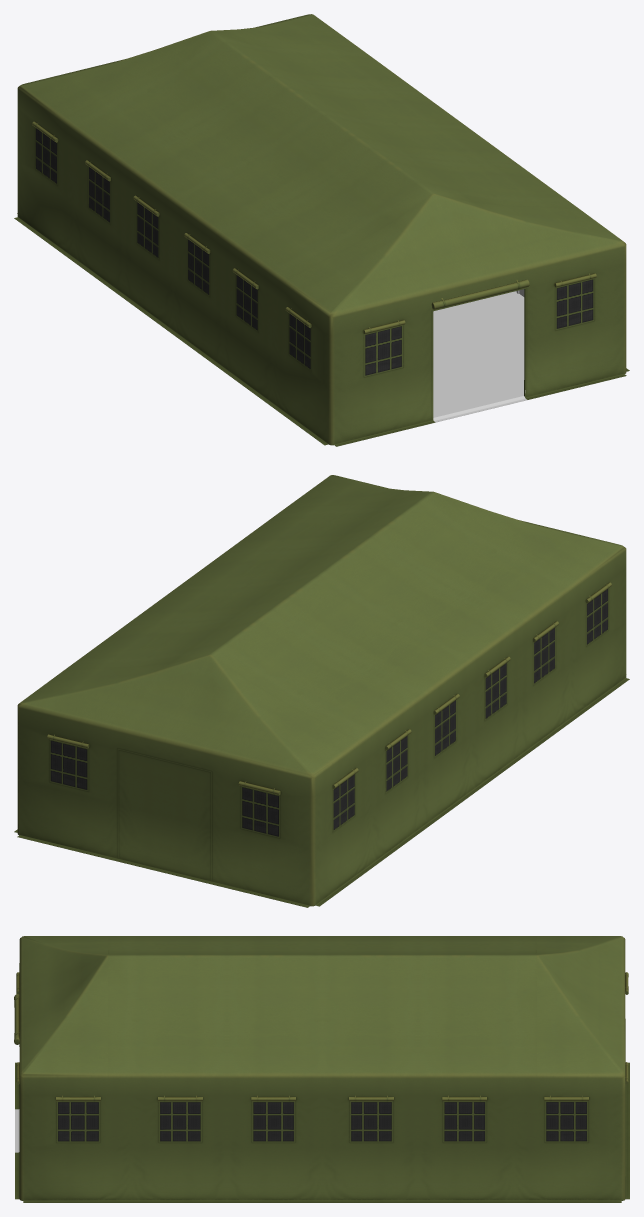
The model's file is Tent02_2.FBX.
The picture shows the model from 3 angles, top to bottom: view 1: azimuth 30°, elevation 25°; view 2: azimuth 150°, elevation 25°; view 3: azimuth 270°, elevation 25°; orthographic projection. The views are drawn at different scales.
Visible parts, largest first — view 1: Tent02_2; view 2: Tent02_2; view 3: Tent02_2.
Boxes of the visible parts, left/top/right/bottom form: Tent02_2: left=14, top=14, right=629, bottom=446; Tent02_2: left=14, top=475, right=629, bottom=907; Tent02_2: left=14, top=936, right=629, bottom=1202.
Size of what is drawn, in the model's own units: 8.32 by 4.74 by 15.08.
